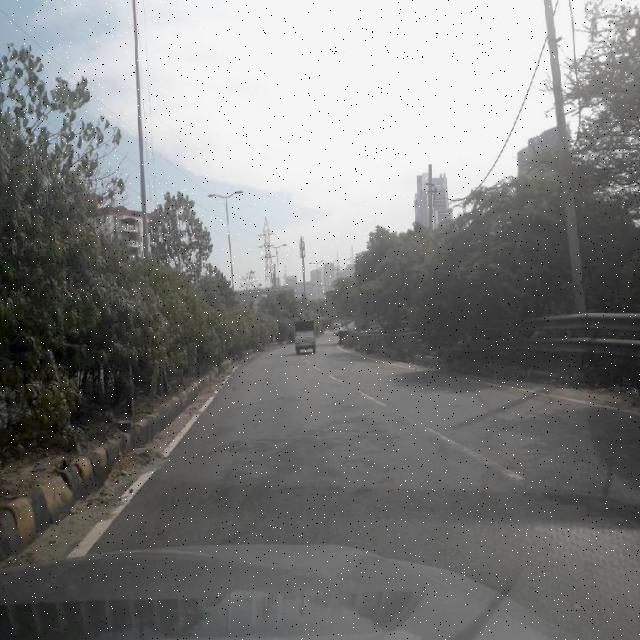D40: (310, 416, 393, 458)
D44: (422, 426, 528, 484)
